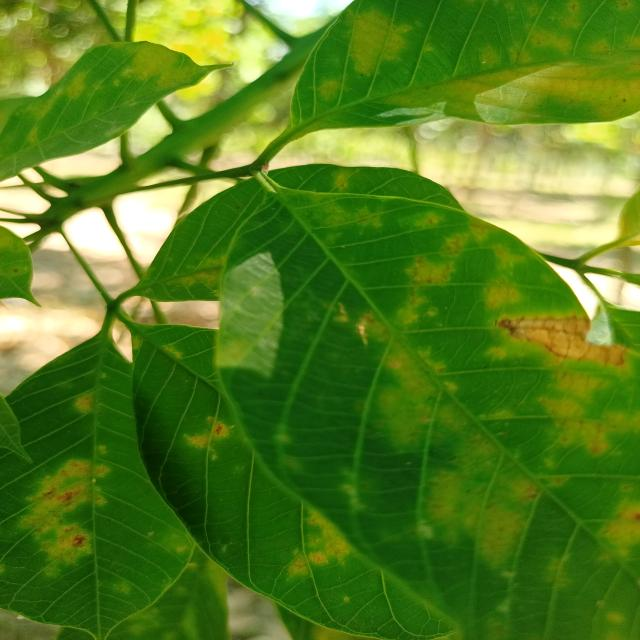Leaf-Blight: (497, 317, 628, 367)
